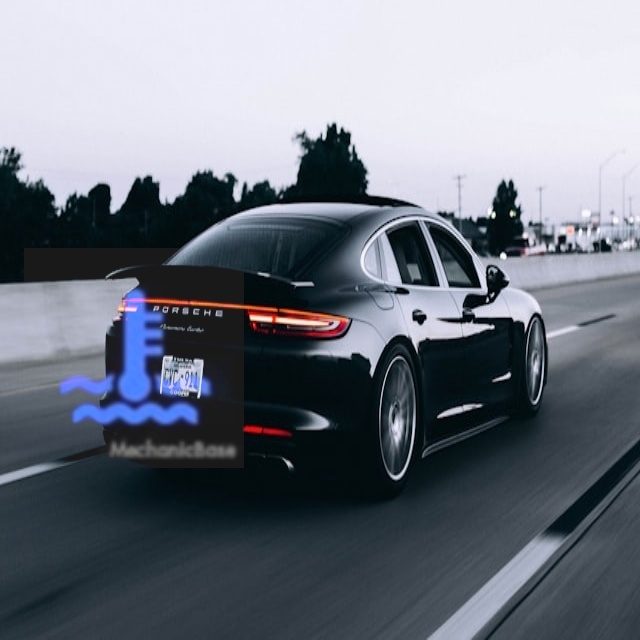symbol: (24, 248, 244, 468)
